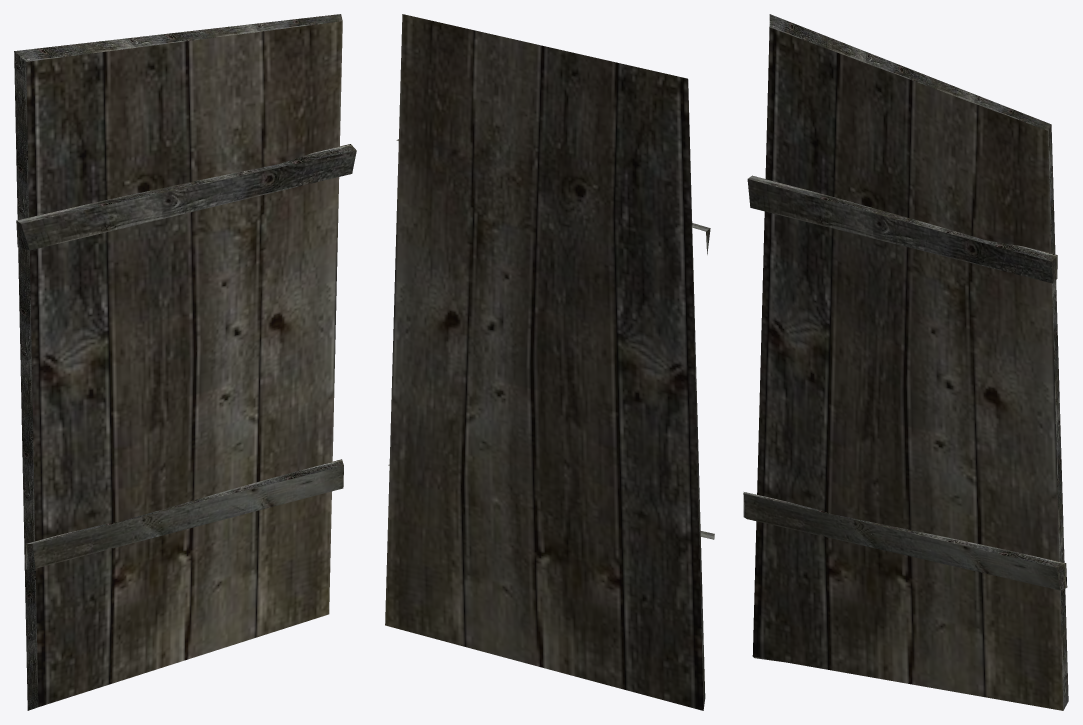
Rendered from prop_destroyedcrateside.glb.
3 renders of one model, left to right at view 1: azimuth 30°, elevation 25°; view 2: azimuth 150°, elevation 25°; view 3: azimuth 330°, elevation 25°, orthographic. The views are drawn at different scales.
Size of the model in its own units: 15.51 by 29.71 by 2.24.
1 material, 1 textured.
